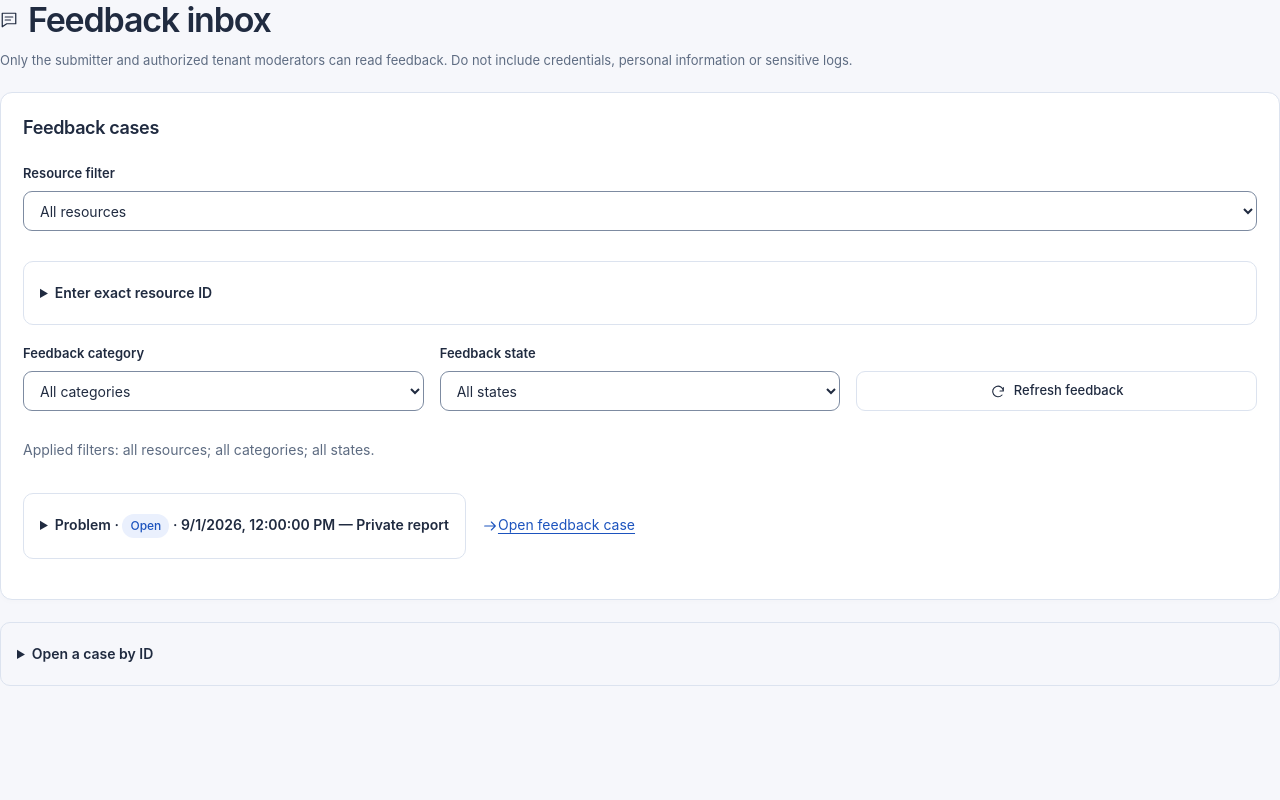
Test: does not hydrate later-page namespace authority for every feedback row
Check: the link "Resource and versions" is not shown
Click the heading "Problem · Open · 9/1/2026, 12:00:00 PM — Private report" at {"x": 244, "y": 526}, box [40,510,449,542]
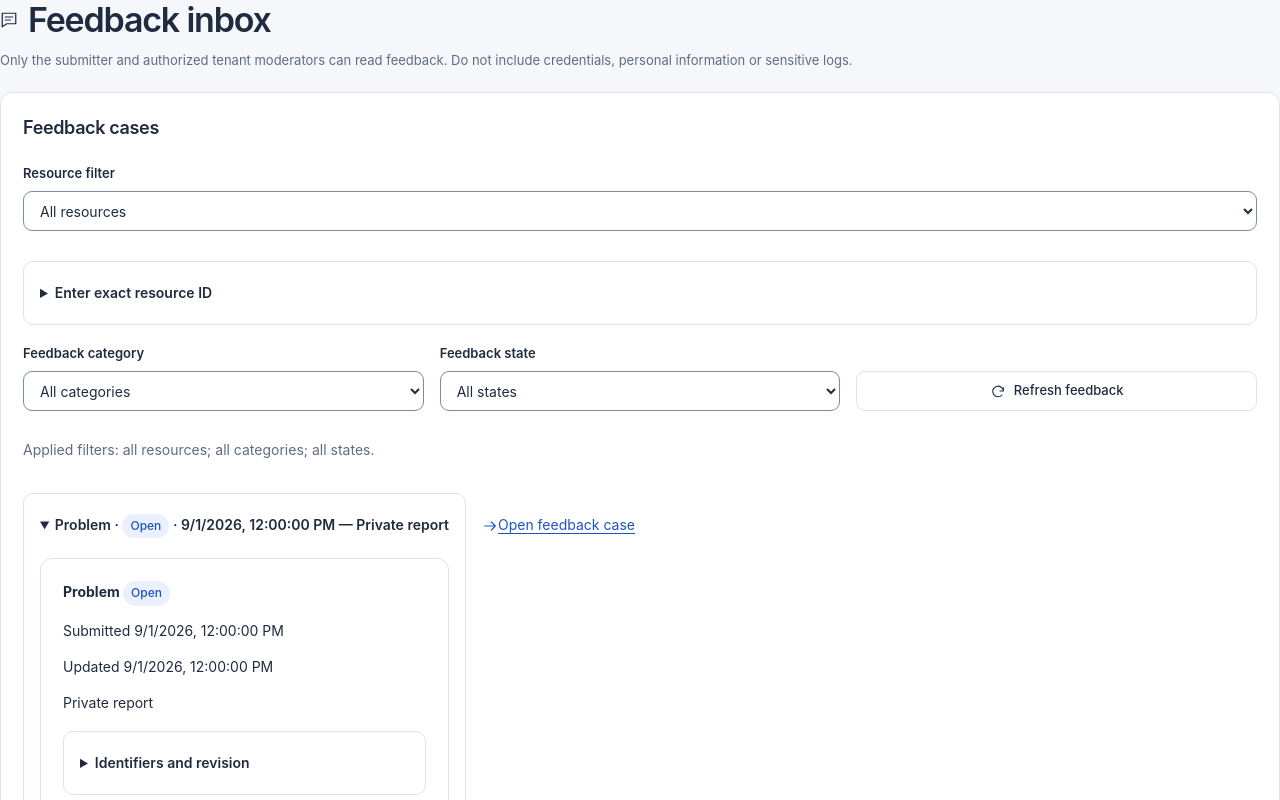
Click the heading "Identifiers and revision" at {"x": 172, "y": 763}, box [95,754,250,771]
(page scrolled)
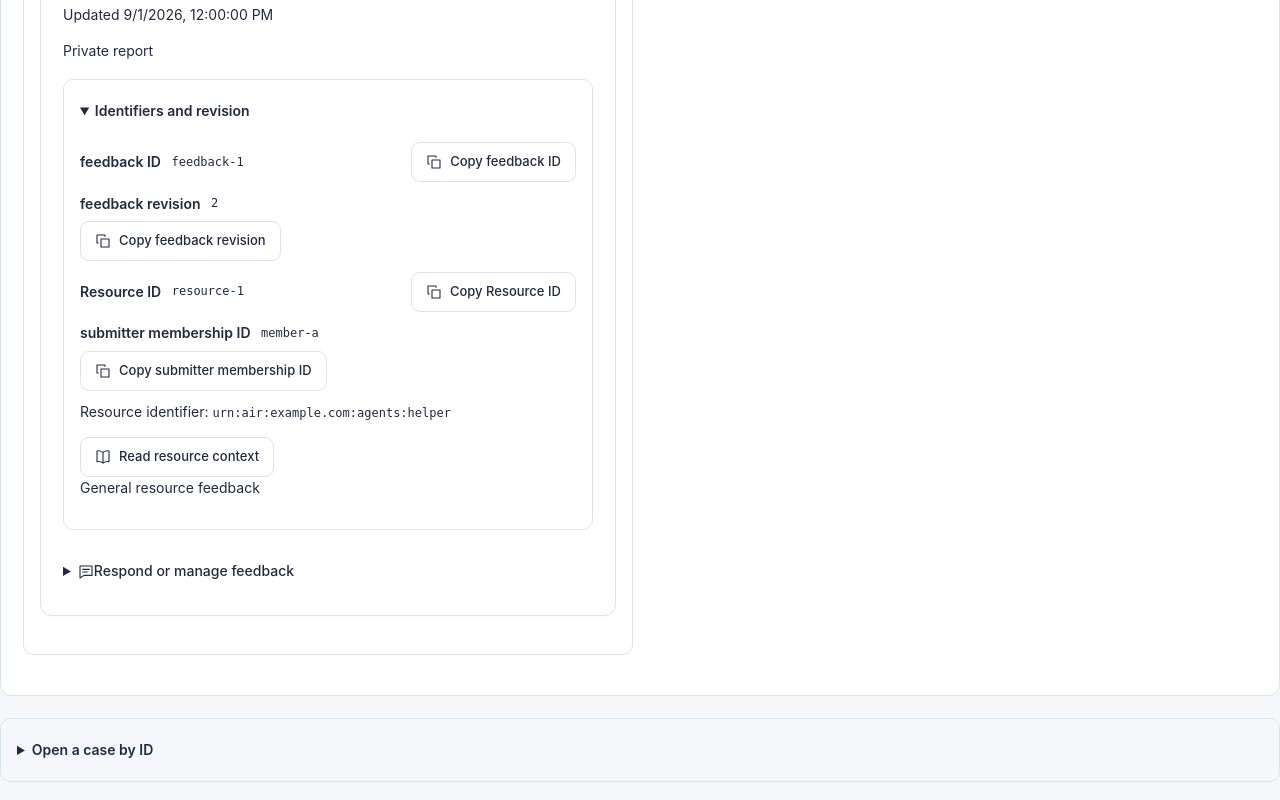
Click the button "Read resource context" at {"x": 177, "y": 457}, box [80,437,274,477]
(page scrolled)
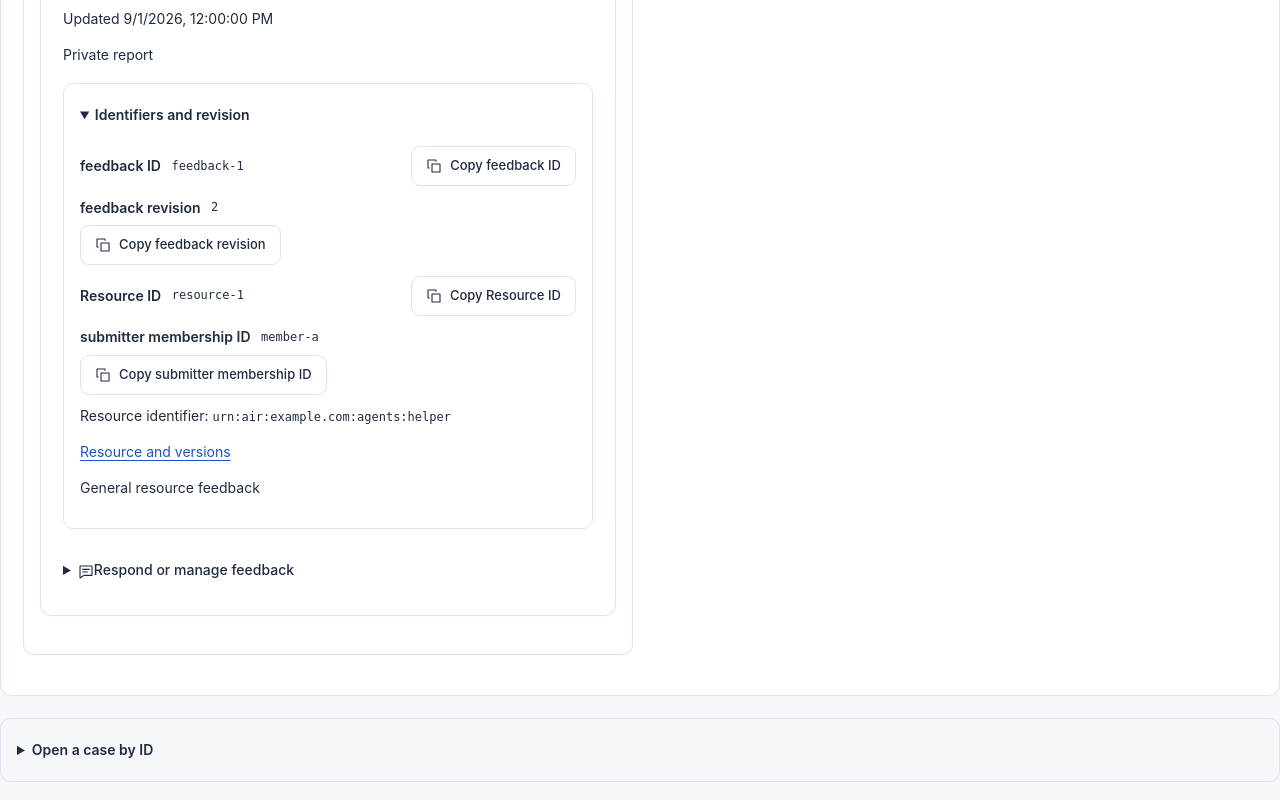
Check: the link "Resource and versions" is shown, box [80,443,231,460]
